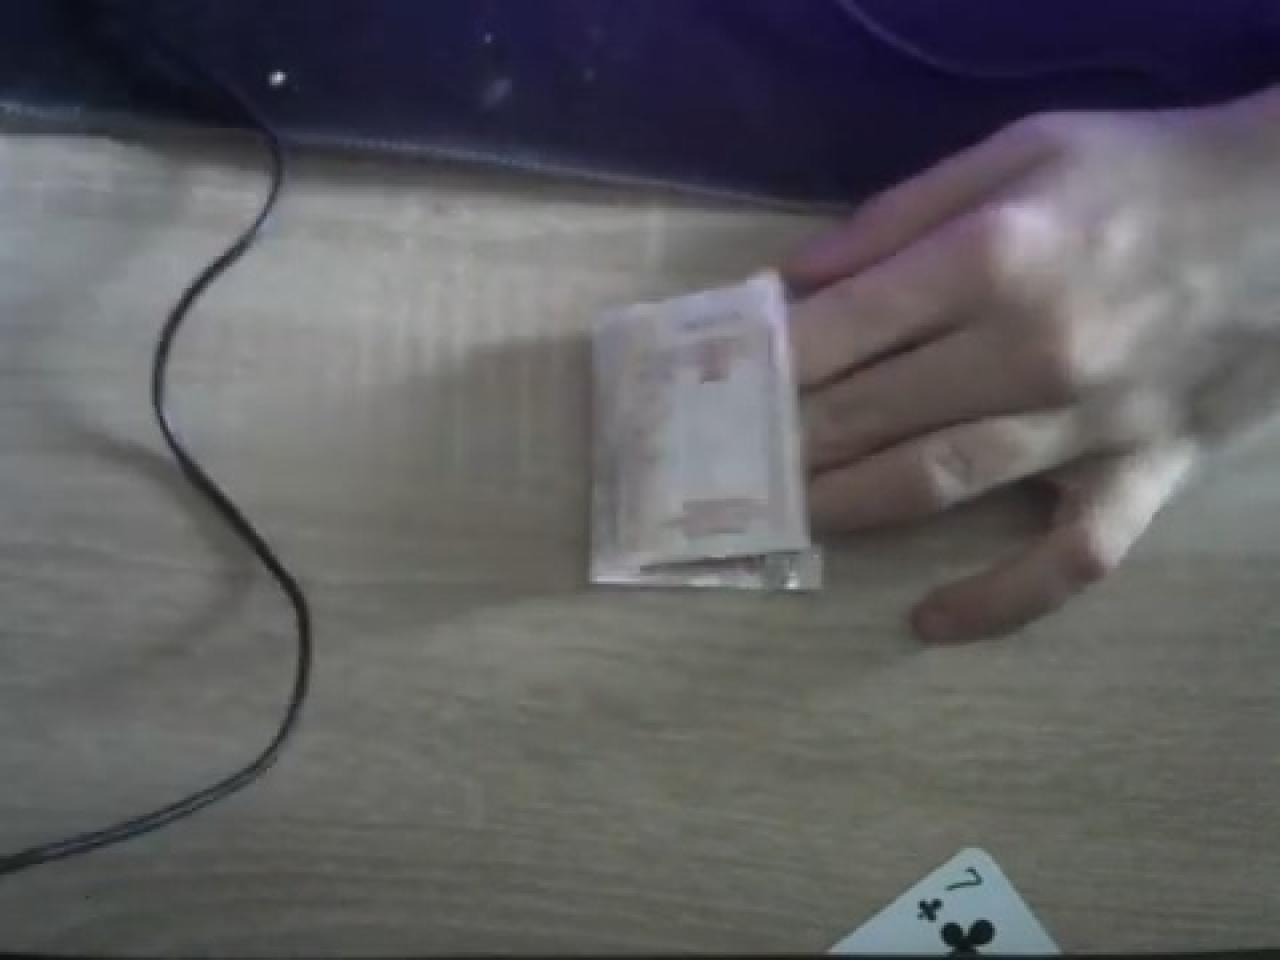5leva: (584, 272, 824, 597)
